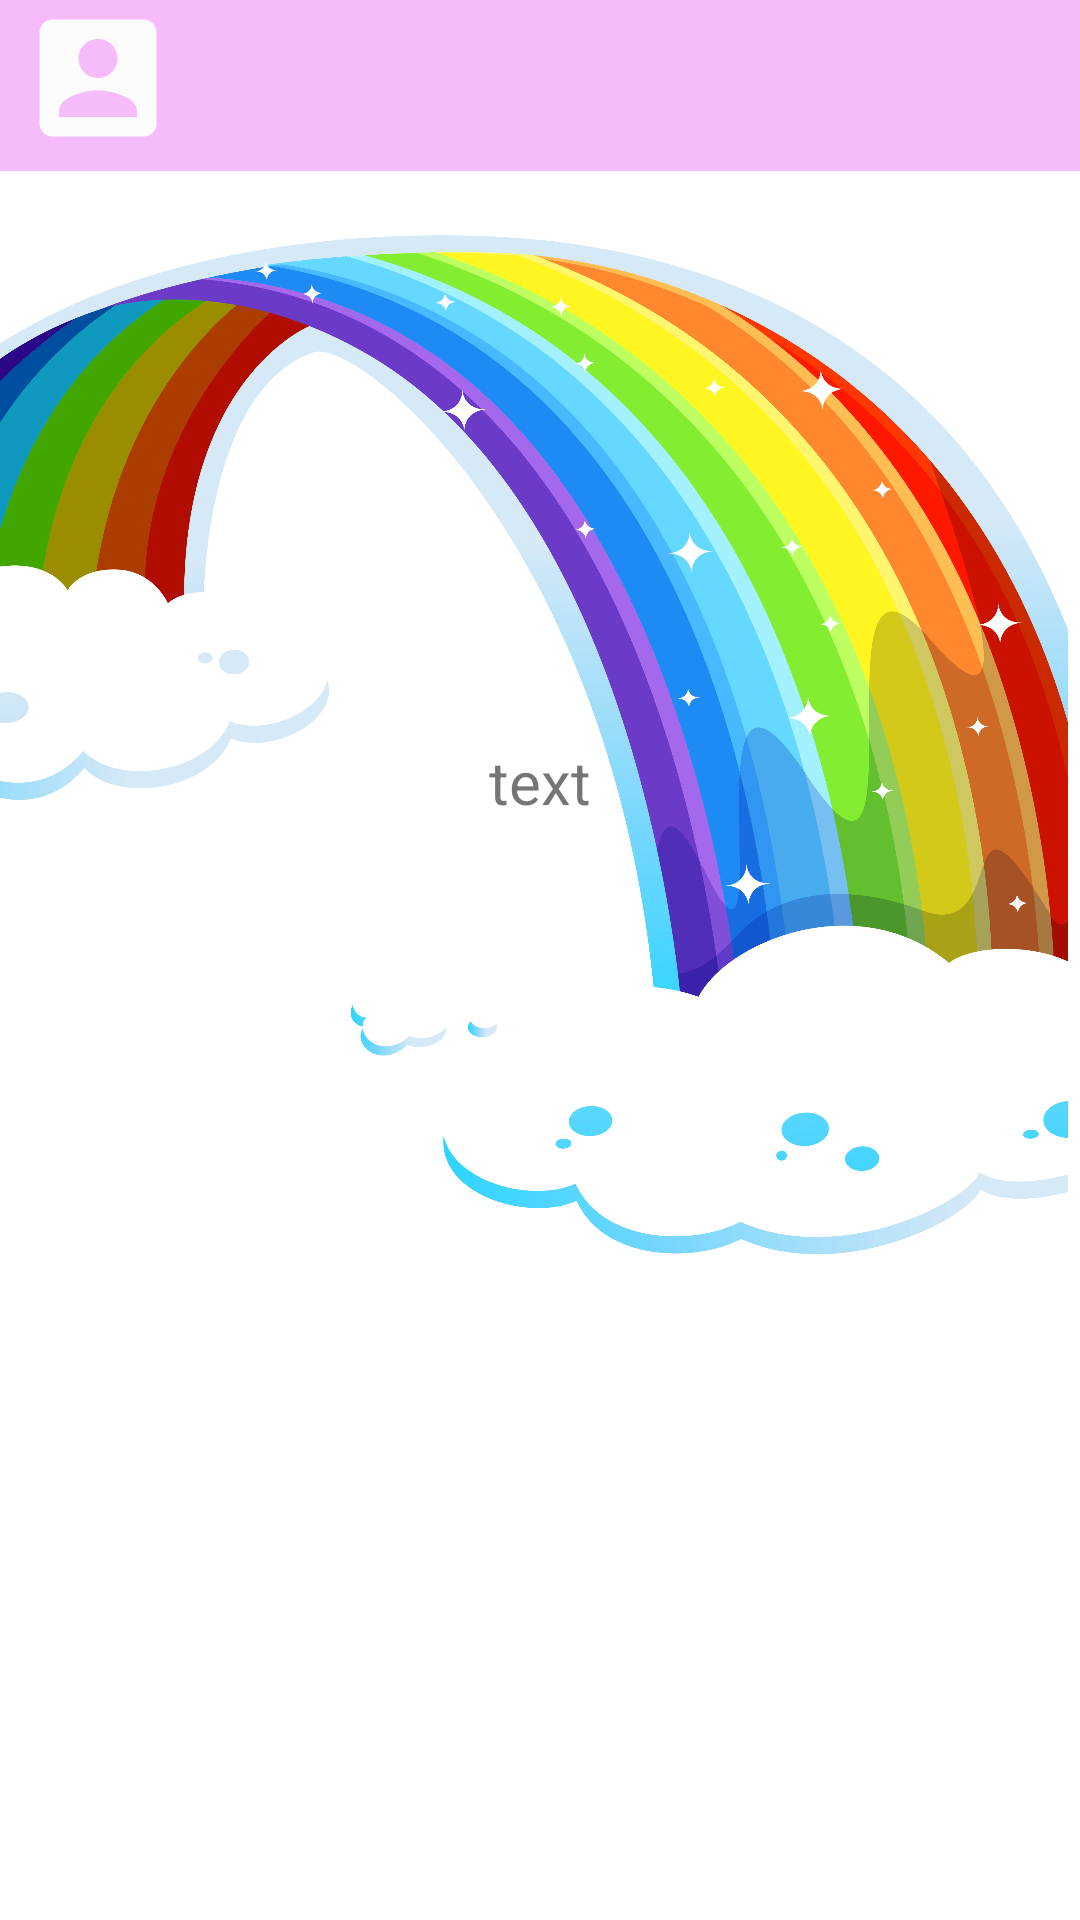

Where to tap for icons on this 1080 x 1920 app screen, as [x,y]:
account box: [98,78]
